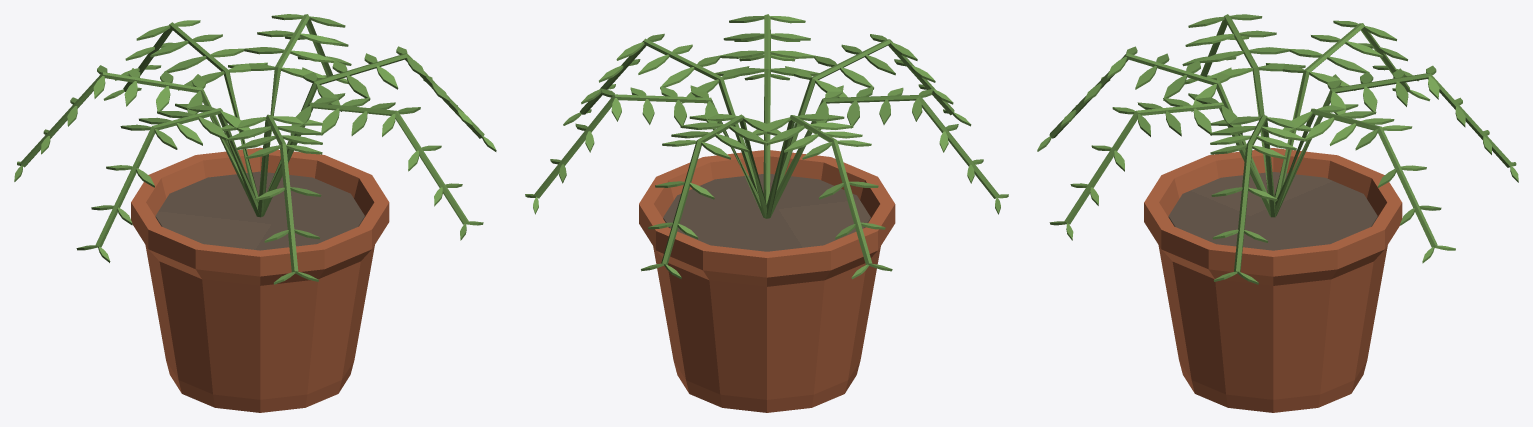
Rendered from fern.glb.
3 views of the same model, side by side, from view 1: azimuth 30°, elevation 25°; view 2: azimuth 150°, elevation 25°; view 3: azimuth 270°, elevation 25° (orthographic).
Visible parts, largest first — view 1: fern/review-terra-vessel, fern/review-rooted-soil, fern/frond-rachis-031, fern/frond-rachis-061, fern/frond-rachis-016, fern/frond-rachis-046, fern/frond-rachis-001, fern/frond-rachis-076, fern/frond-rachis-091; view 2: fern/review-terra-vessel, fern/review-rooted-soil, fern/frond-rachis-031, fern/frond-rachis-016, fern/frond-rachis-091, fern/frond-rachis-001, fern/frond-rachis-076, fern/frond-rachis-046, fern/frond-rachis-061; view 3: fern/review-terra-vessel, fern/review-rooted-soil, fern/frond-rachis-061, fern/frond-rachis-091, fern/frond-rachis-001, fern/frond-rachis-076, fern/frond-rachis-016, fern/frond-rachis-046, fern/frond-rachis-031.
Boxes of the visible parts, x1,y1,x2,y2 form: fern/review-terra-vessel: (131, 147, 389, 412); fern/review-rooted-soil: (155, 171, 364, 250); fern/frond-rachis-031: (95, 108, 259, 247); fern/frond-rachis-061: (261, 102, 468, 224); fern/frond-rachis-016: (20, 72, 256, 215); fern/frond-rachis-046: (258, 114, 298, 272); fern/frond-rachis-001: (123, 22, 258, 201); fern/frond-rachis-076: (267, 53, 484, 191); fern/frond-rachis-091: (269, 14, 332, 146); fern/review-terra-vessel: (639, 150, 895, 412); fern/review-rooted-soil: (663, 174, 870, 251); fern/frond-rachis-031: (770, 95, 999, 217); fern/frond-rachis-016: (766, 115, 872, 264); fern/frond-rachis-091: (534, 94, 764, 217); fern/frond-rachis-001: (661, 114, 766, 264); fern/frond-rachis-076: (580, 38, 758, 194); fern/frond-rachis-046: (776, 39, 954, 190); fern/frond-rachis-061: (763, 14, 770, 204); fern/review-terra-vessel: (1144, 148, 1402, 412); fern/review-rooted-soil: (1168, 172, 1377, 250); fern/frond-rachis-061: (1064, 102, 1270, 224); fern/frond-rachis-091: (1275, 108, 1437, 247); fern/frond-rachis-001: (1276, 73, 1512, 215); fern/frond-rachis-076: (1234, 114, 1275, 272); fern/frond-rachis-016: (1274, 23, 1410, 201); fern/frond-rachis-046: (1049, 53, 1269, 215); fern/frond-rachis-031: (1200, 14, 1268, 193).
Size of the model in its own units: 0.3577 by 0.2412 by 0.3546.
3 materials, 3 textured.
